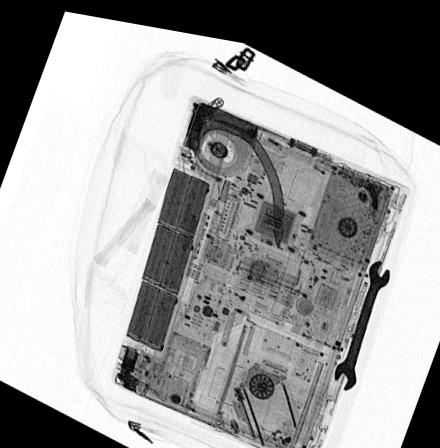Wrench: (332, 245, 390, 380)
